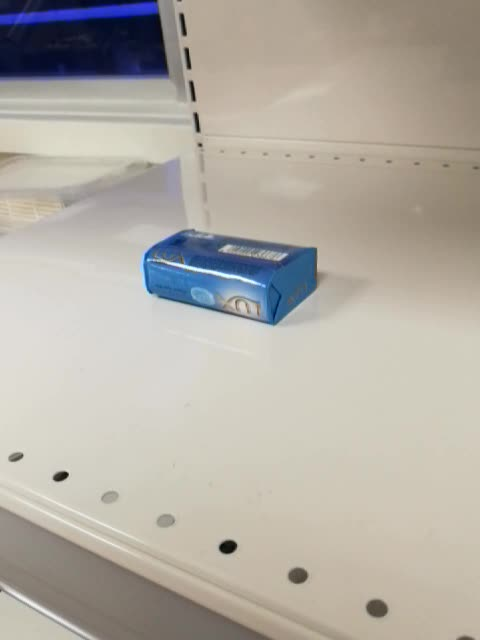soap: (142, 226, 320, 329)
